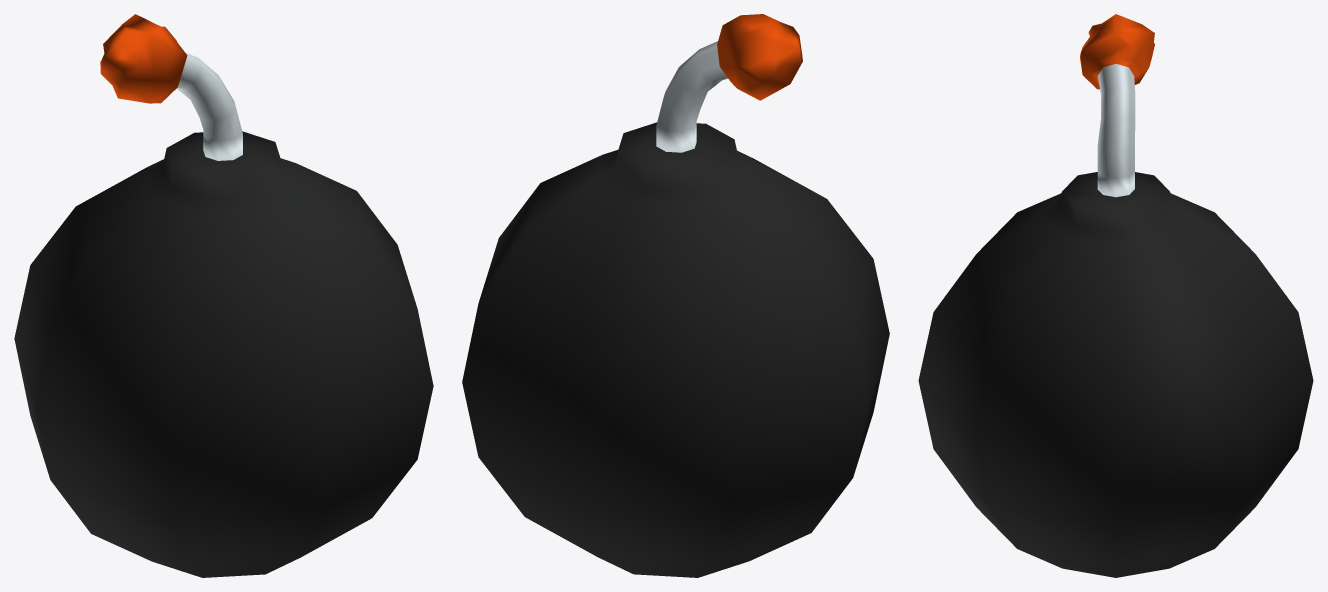
Rendered from Bomb_Pickup.fbx.
3 renders of one model, left to right at view 1: azimuth 30°, elevation 25°; view 2: azimuth 150°, elevation 25°; view 3: azimuth 270°, elevation 25°, orthographic. The views are drawn at different scales.
Visible parts, largest first — view 1: bomb_pickup1; view 2: bomb_pickup1; view 3: bomb_pickup1.
Part boxes in pixels (x1=…): bomb_pickup1: x1=14, y1=14, x2=433, y2=577; bomb_pickup1: x1=462, y1=14, x2=889, y2=577; bomb_pickup1: x1=918, y1=14, x2=1313, y2=577.
Bounding box in the file's own units: 2 × 2.81 × 2.
